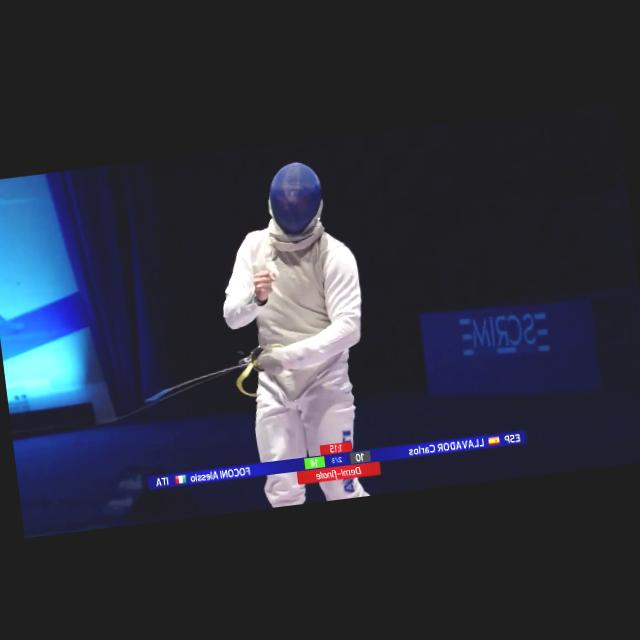blade: (136, 346, 276, 408)
